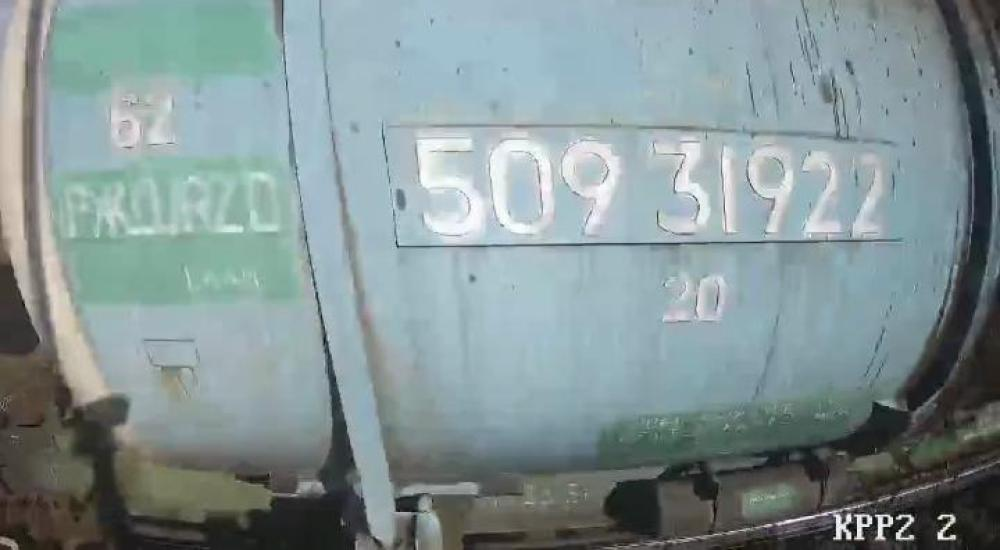Wagon-number: (412, 125, 893, 242)
